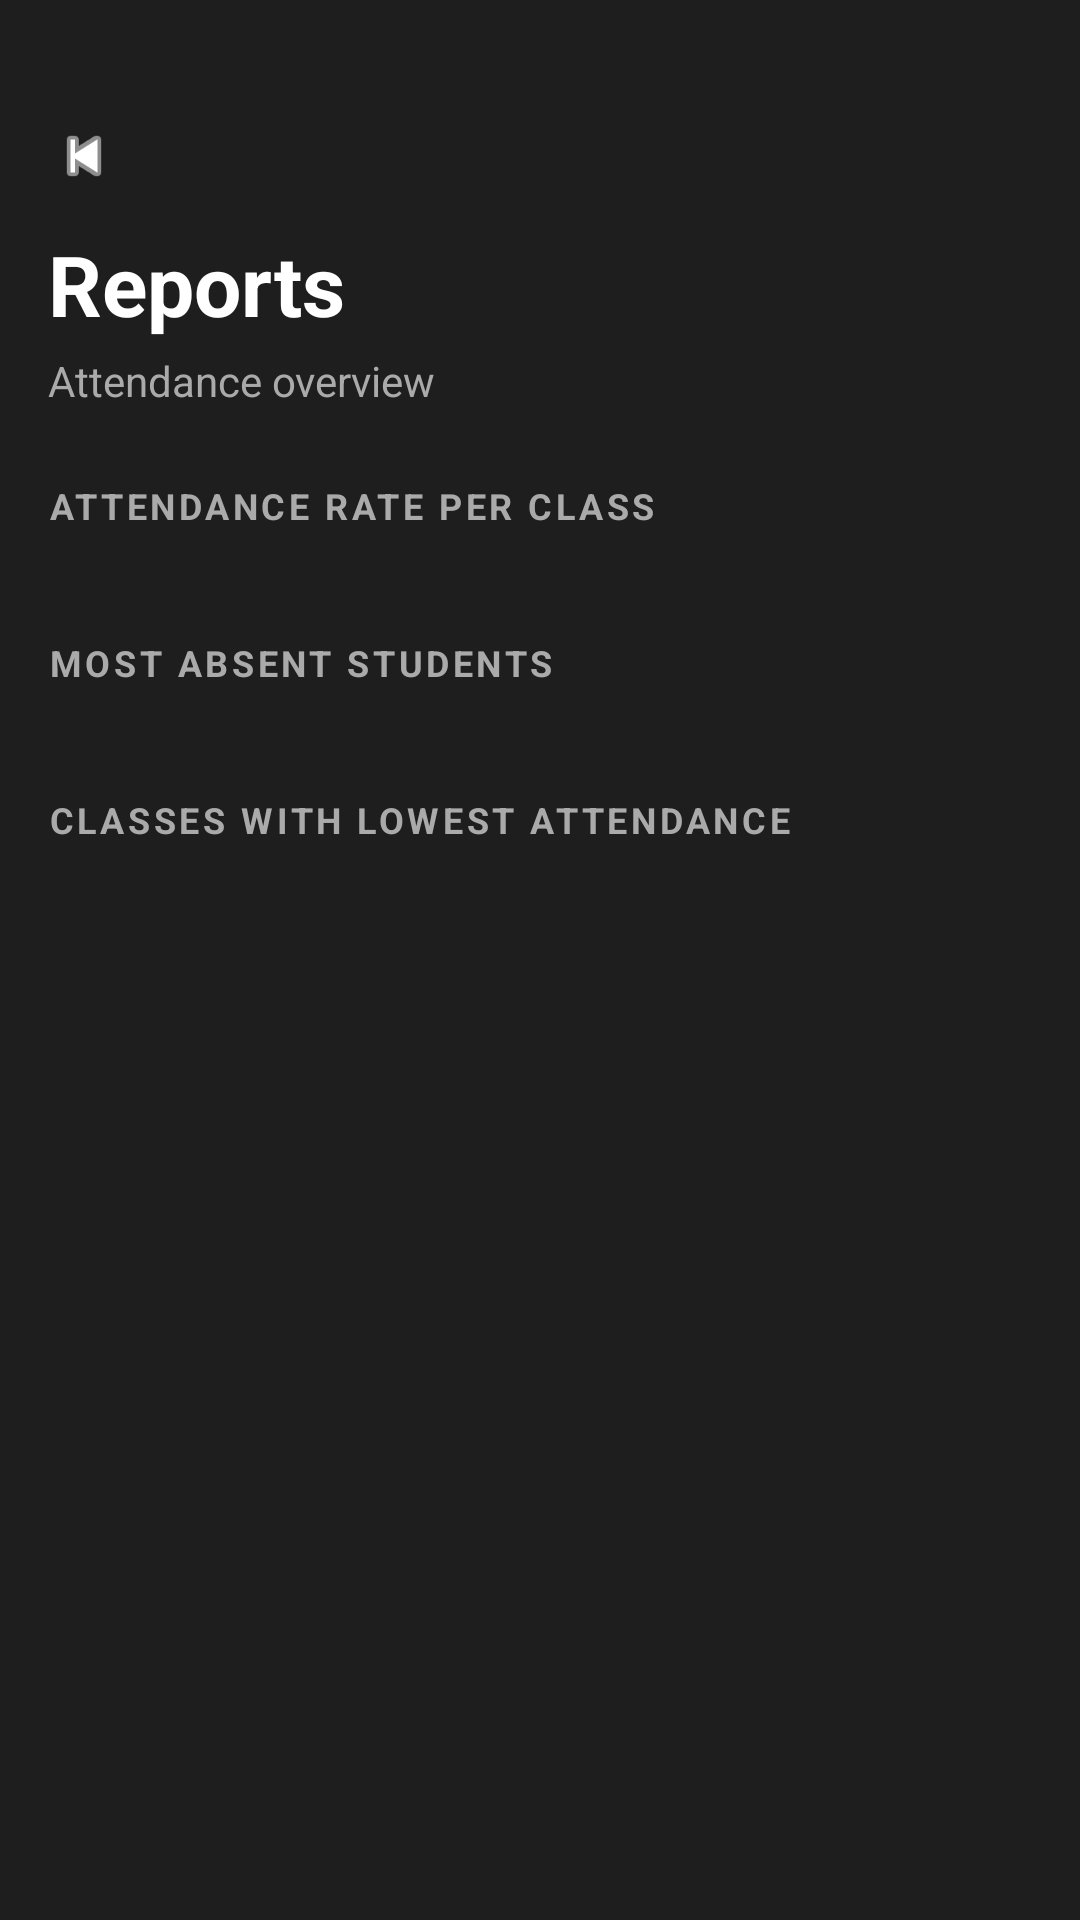

Where icons sit on this 1080×1920 app screen, as (x1, y1, x2, y2):
previous: (67, 136, 101, 176)
